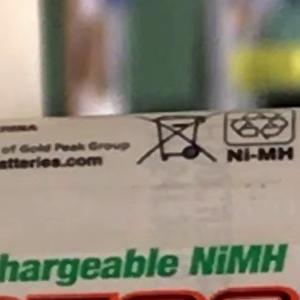NIMH: (179, 234, 297, 285)
